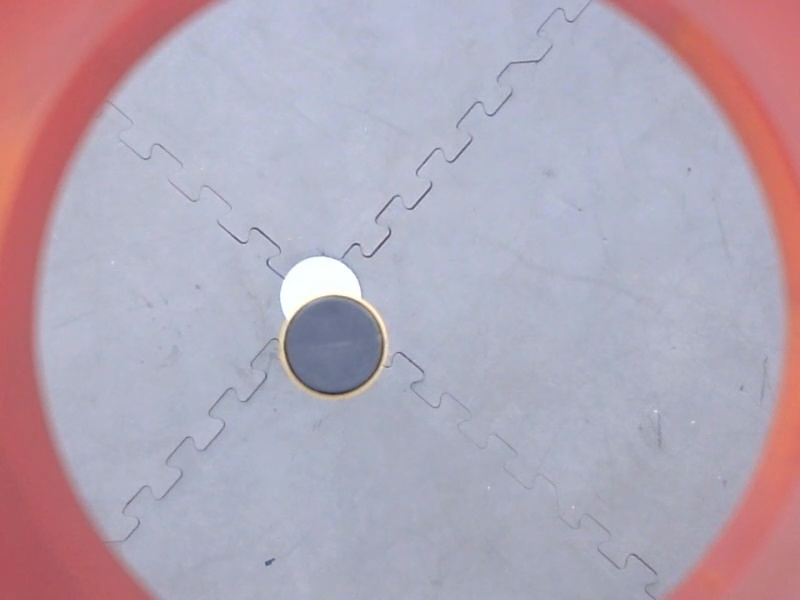tip: (276, 289, 394, 407)
